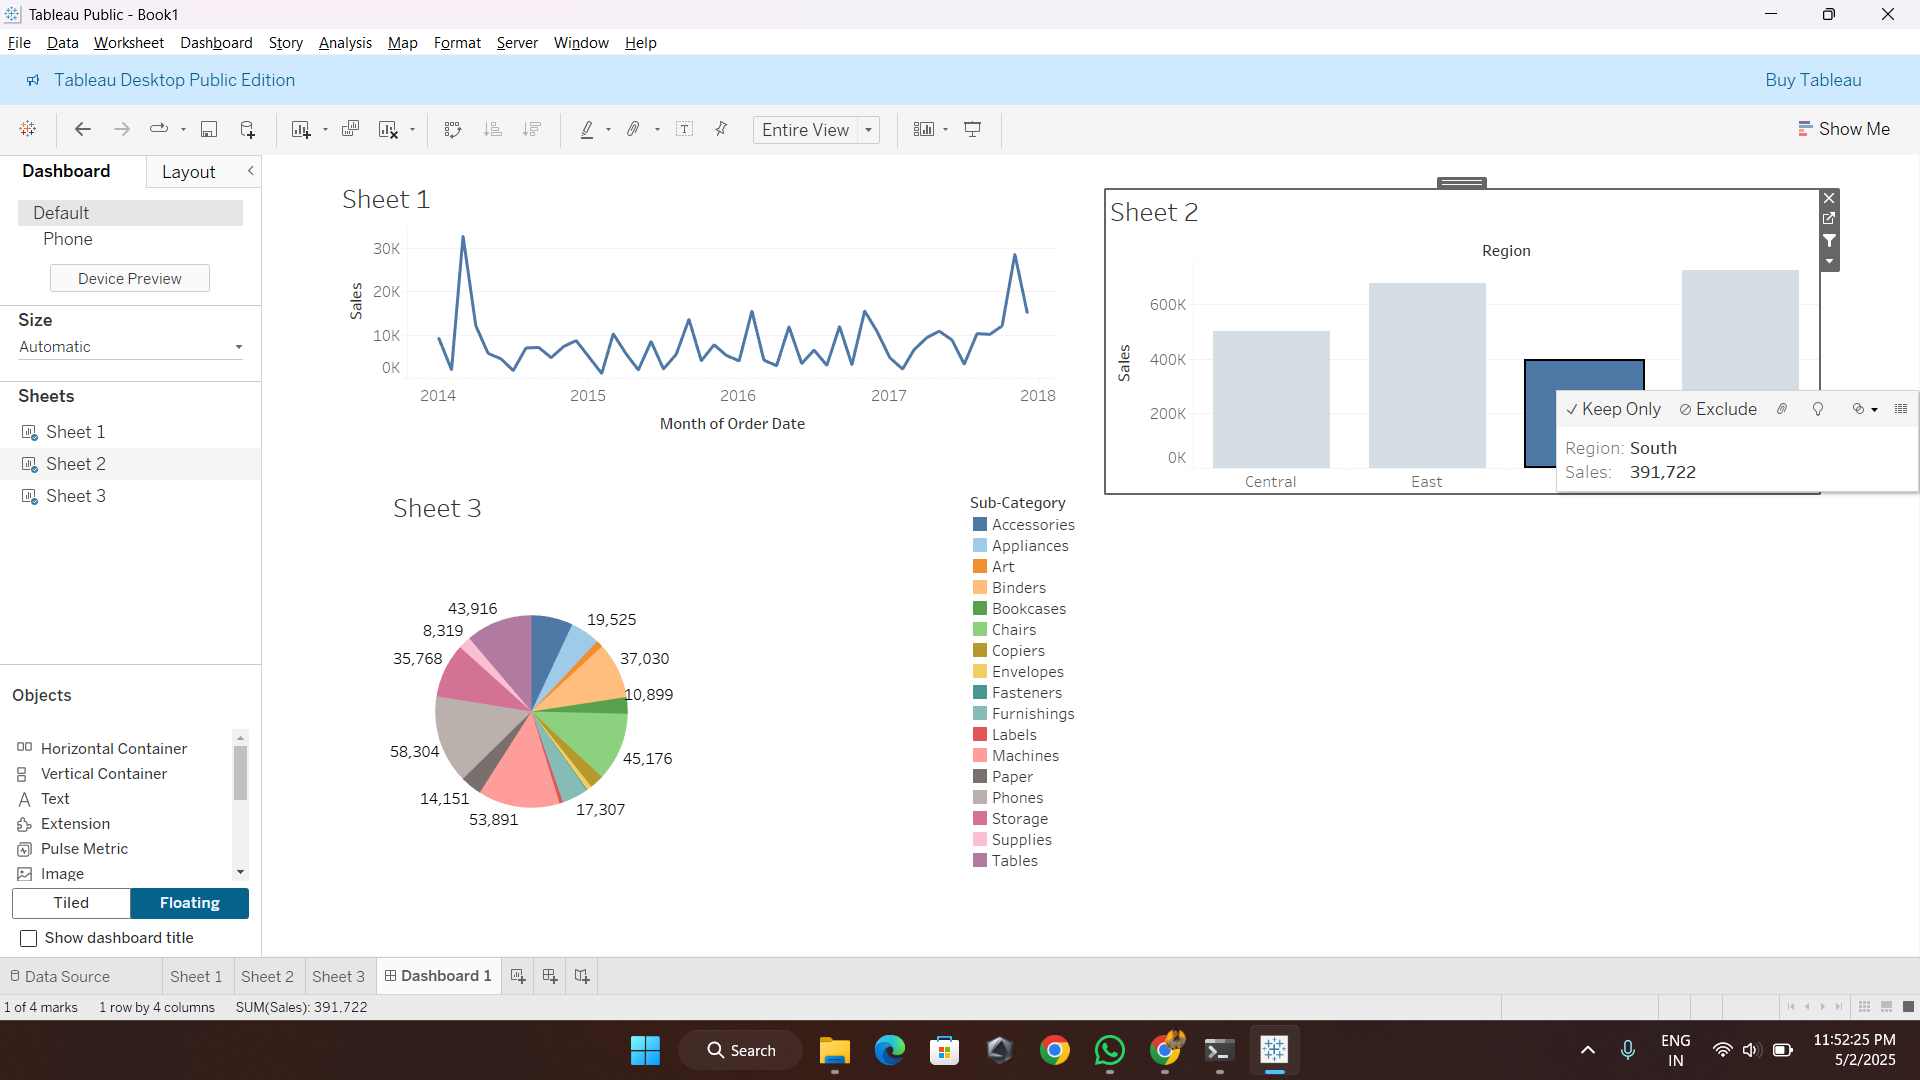

Layout of this report page (visuals, bound fields, positions):
{"tool":"tableau","page":{"name":"Dashboard 1","canvas":[1000,1000],"units":"permille","ordinal":0},"visuals":[{"type":"worksheet","title":"Sheet 1","mark":"Automatic","rows":["Sales"],"cols":["Order Date"],"box":[45.7,27.8,434.8,330]},{"type":"worksheet","title":"Sheet 2","mark":"Automatic","rows":["Sales"],"cols":["Region"],"box":[509.5,44.2,430.3,378]},{"type":"worksheet","title":"Sheet 3","mark":"Pie","box":[76.9,413.4,557.4,544.9]},{"type":"legend","title":"Sheet 3","param":"[federated.0zytudi18xzlkc154tkg91schba1].[none:Sub-Category:nk]","box":[427,421,132.7,501.9]}]}

Visuals, with their boxes on the dashboard's canvas, which has no fixed pixel size, in thousandths of its width and height (x1, y1, x2, y2). These are canvas units, not pixel positions in the 1920x1080 screenshot, which may show the page scaled, cropped or inside an application window:
"Sheet 1" worksheet: 46,28,480,358
"Sheet 2" worksheet: 510,44,940,422
"Sheet 3" worksheet (Pie marks): 77,413,634,958
"Sheet 3" legend: 427,421,560,923
